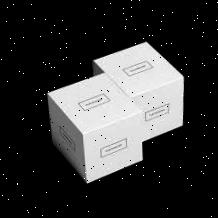cube: (42, 72, 143, 184)
